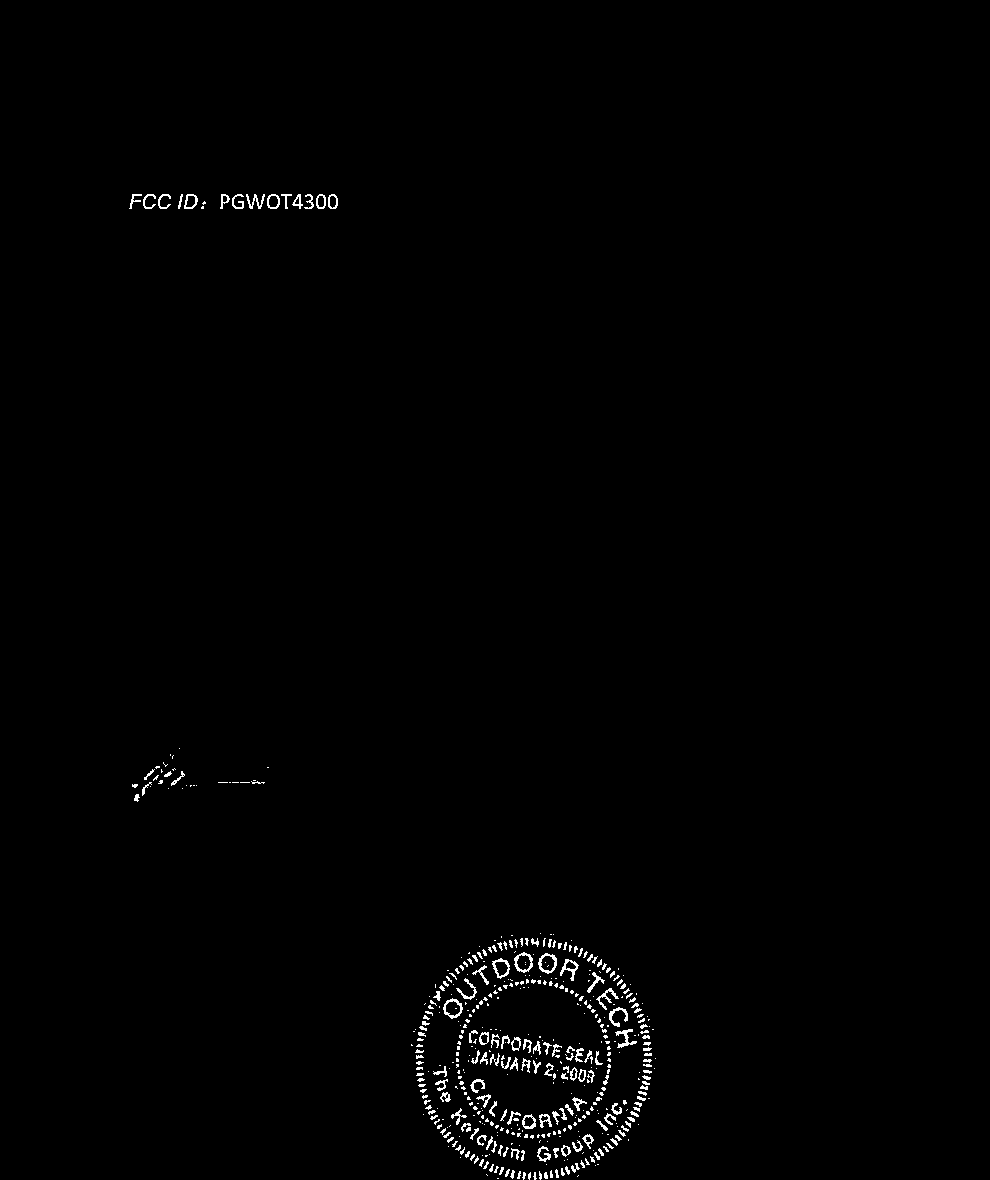Round chop: (411, 928, 666, 1180)
